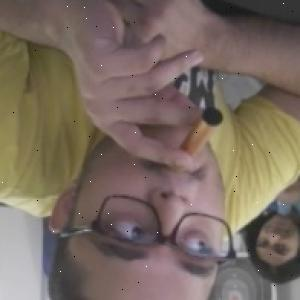Golden-E-Ciggirate: (175, 108, 225, 170)
